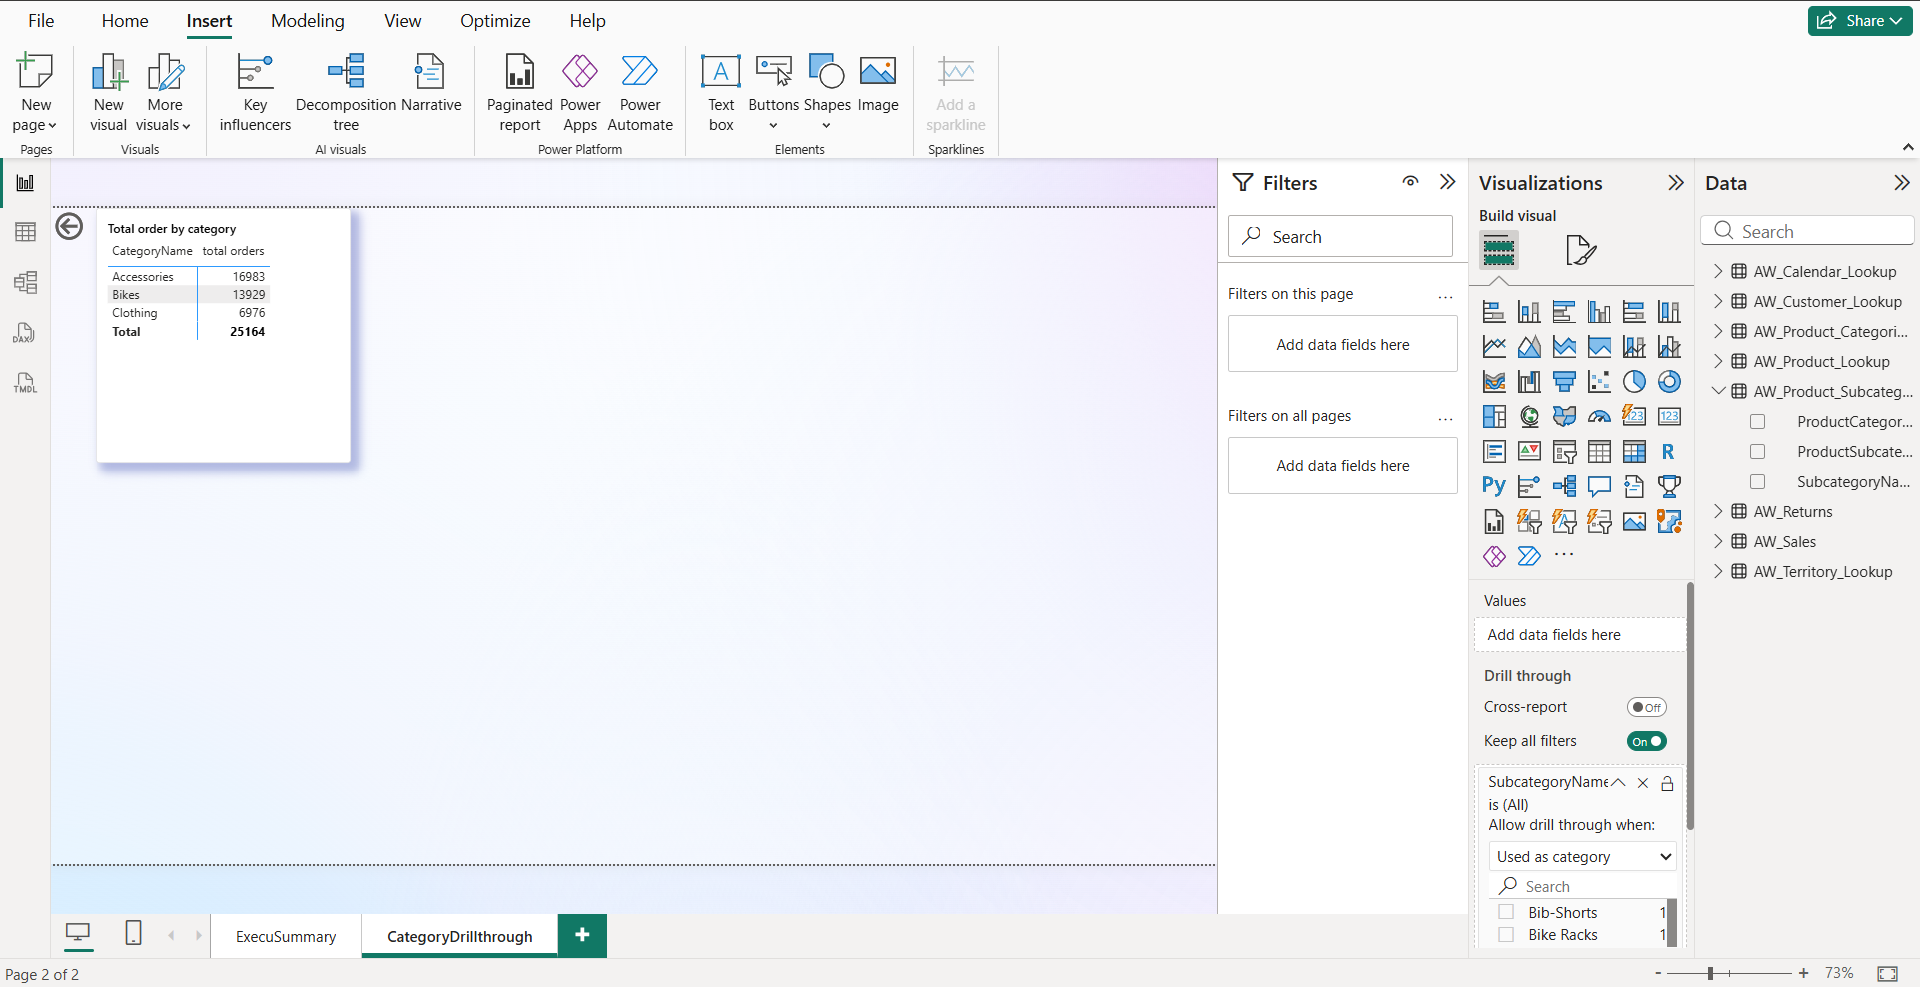

The dashboard page shown, as its layout file describes it:
{"tool":"powerbi","page":{"name":"CategoryName","canvas":[1280,720],"ordinal":1},"visuals":[{"type":"pivotTable","title":"Total orders by category","fields":{"Values":["AW_Sales.Total Orders"],"Rows":["AW_Product_Categories_Lookup.CategoryName"]},"box":[50,0,280,280],"z":0},{"type":"actionButton","box":[0,0,37.5,41.2],"z":1000}]}

Visuals, with their boxes on the page's 1280x720 design canvas (x1, y1, x2, y2). These are canvas units, not pixel positions in the 1920x987 screenshot, which may show the page scaled, cropped or inside an application window:
"Total orders by category" pivotTable: x1=50, y1=0, x2=330, y2=280
actionButton: x1=0, y1=0, x2=38, y2=41
